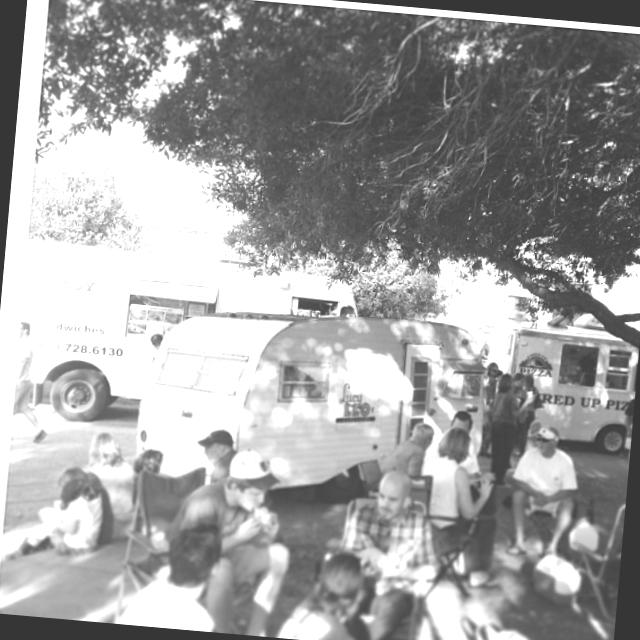Vehicle: (130, 296, 491, 514), (11, 239, 364, 446), (465, 314, 640, 458)
